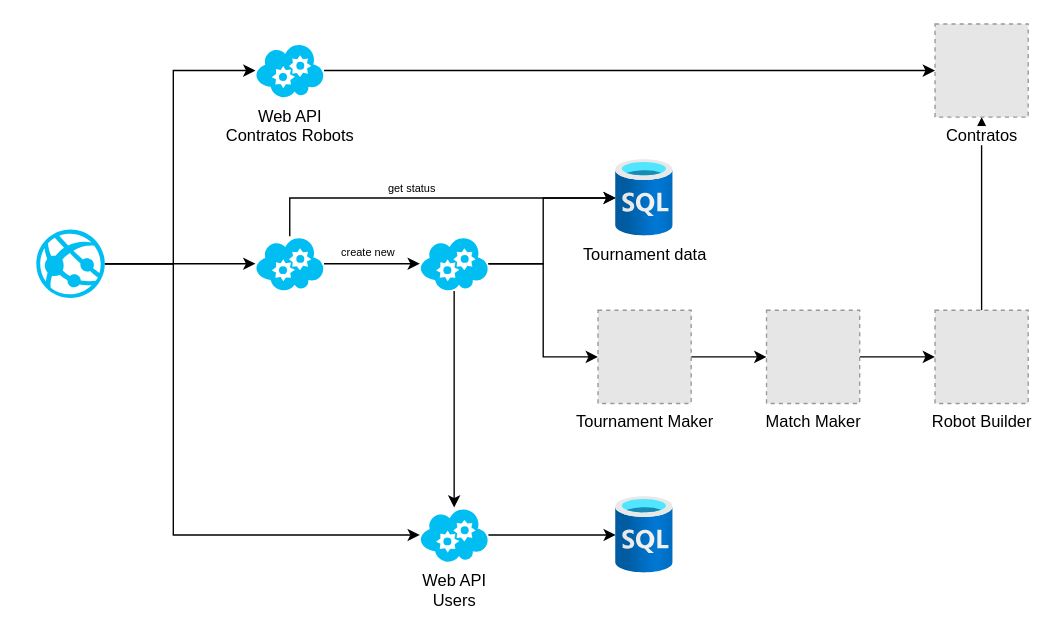
Image size: 1055x636. Some labels were removed from this diagram. Grey dashed boxes stand in for pictures. Here are the shapes that lost their labels. From the top down, the box of each, then its label:
(36, 229, 104, 297): SPA Website
(255, 236, 323, 290): Web API Torneo
(419, 236, 488, 290): Async tournament service
(615, 496, 673, 573): User data
